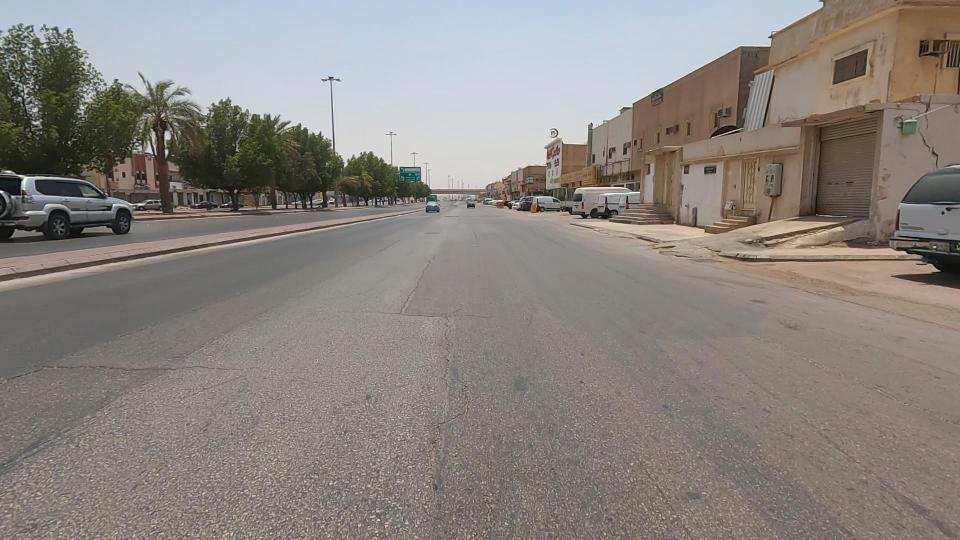BAD_BILLBOARD: (539, 159, 607, 195)
